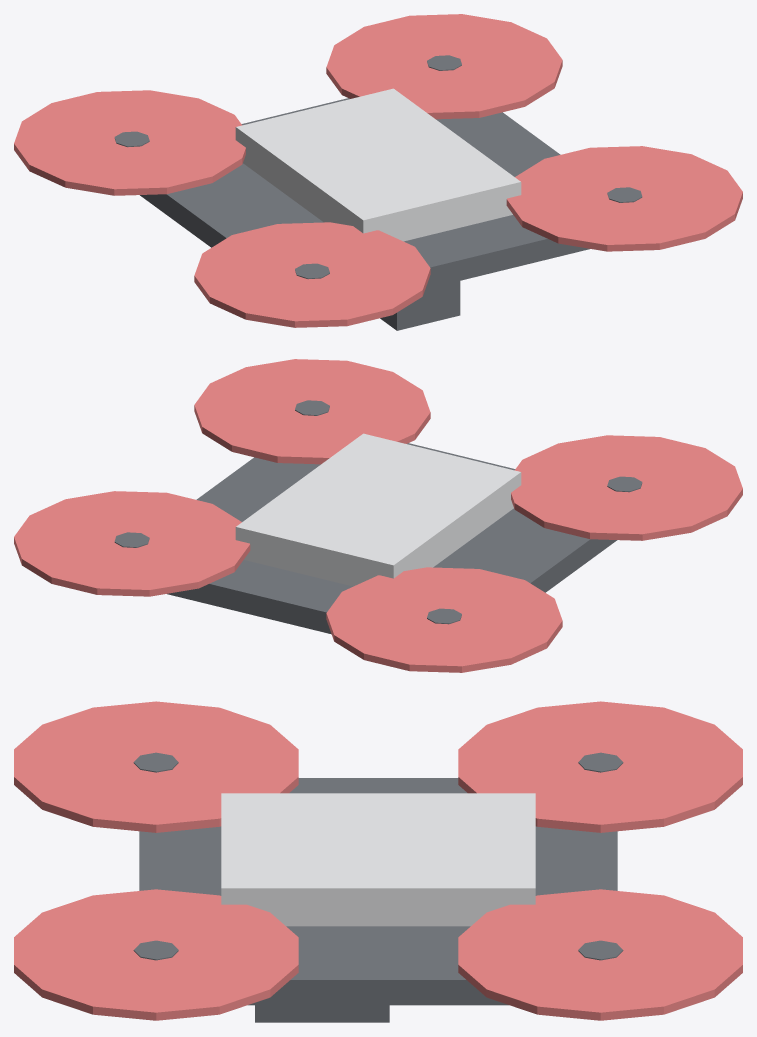
Rendered from synth_quadcopter.glb.
3 views of the same model, one above another, from view 1: azimuth 30°, elevation 25°; view 2: azimuth 150°, elevation 25°; view 3: azimuth 270°, elevation 25° (orthographic). The views are drawn at different scales.
Size of the model in its own units: 0.656 by 0.16 by 0.6494.
